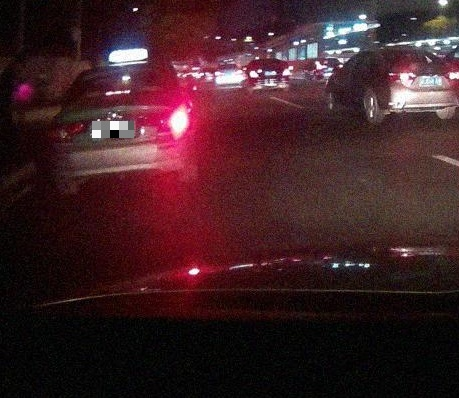L_light: (49, 121, 87, 143), (382, 68, 414, 83)
R_light: (155, 113, 193, 133), (443, 70, 459, 83)
T_light: (104, 88, 132, 96), (416, 57, 431, 62)
night-no: (376, 48, 459, 124)
night-right: (48, 61, 193, 196)
plate_1: (92, 121, 134, 138)
